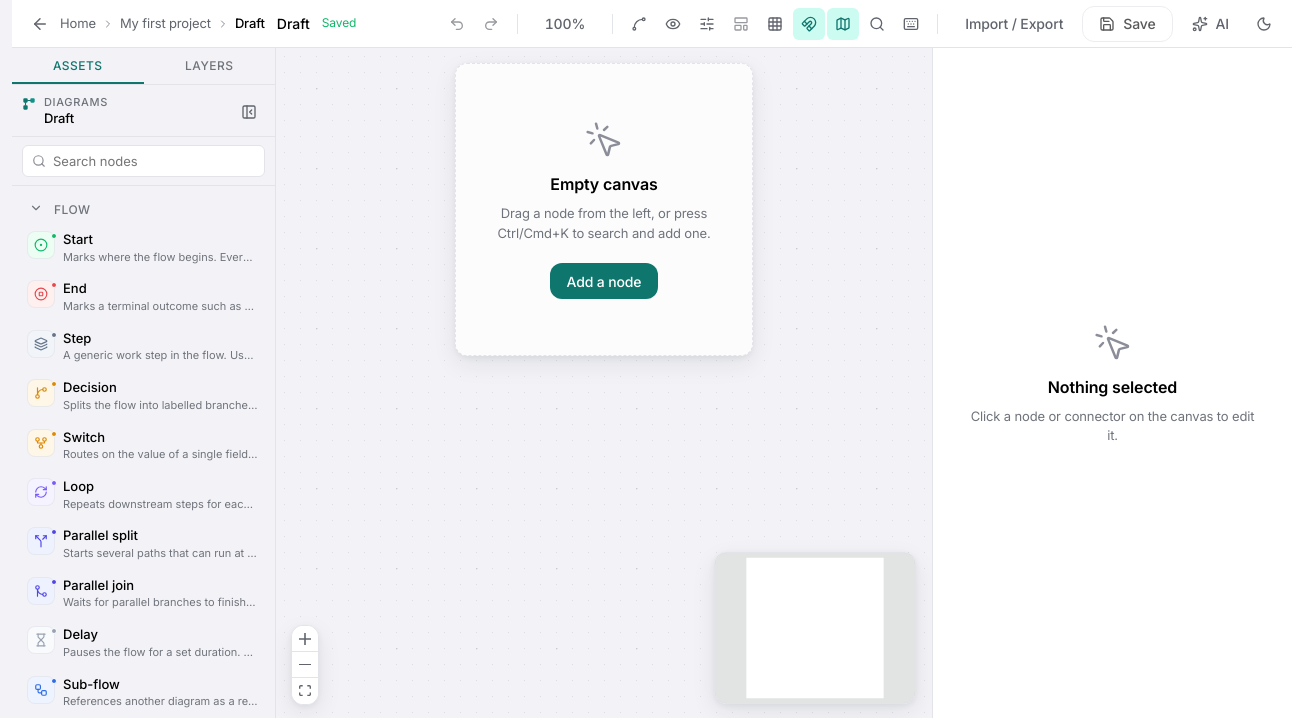
EditorPage › adds a node from the palette and marks the diagram dirty
Expected: the button "Draft" is shown, [269,9,318,38]
Click the button with aria-label "Add Decision" at (144, 396), box [20,372,267,420]
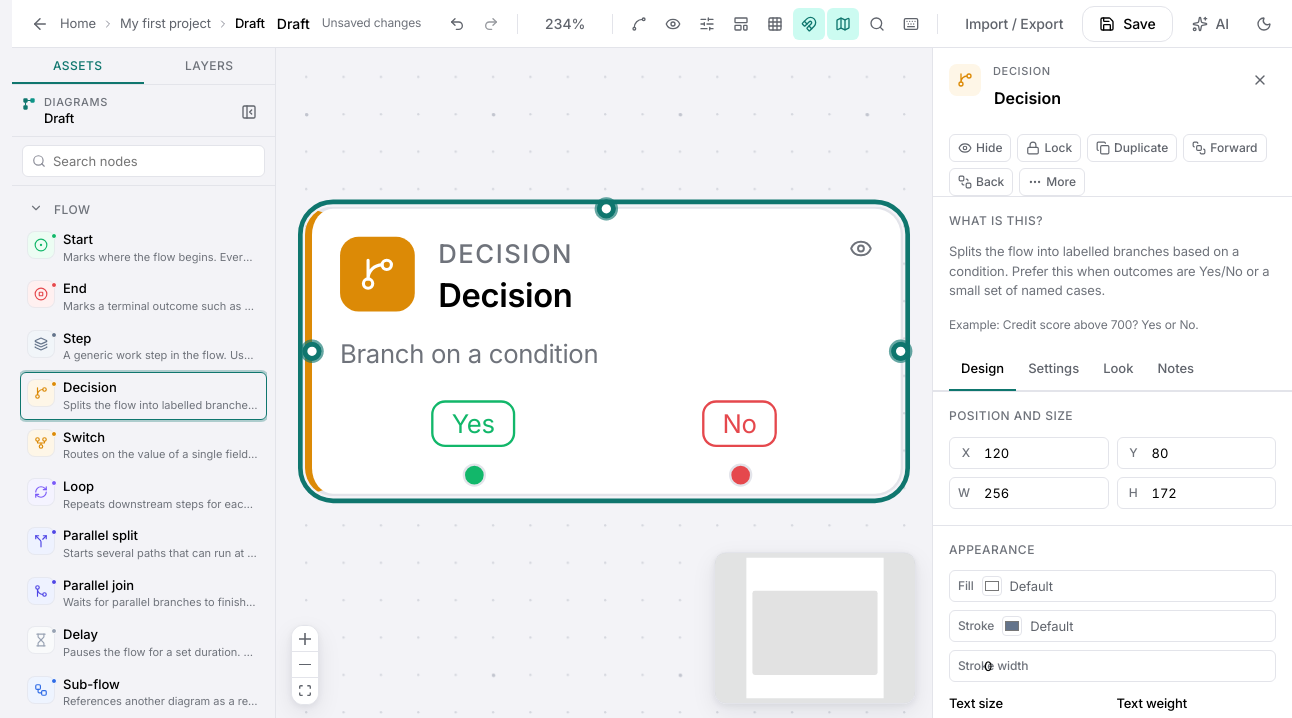
Result: the text "Unsaved changes" is shown at [322,15,421,32]
